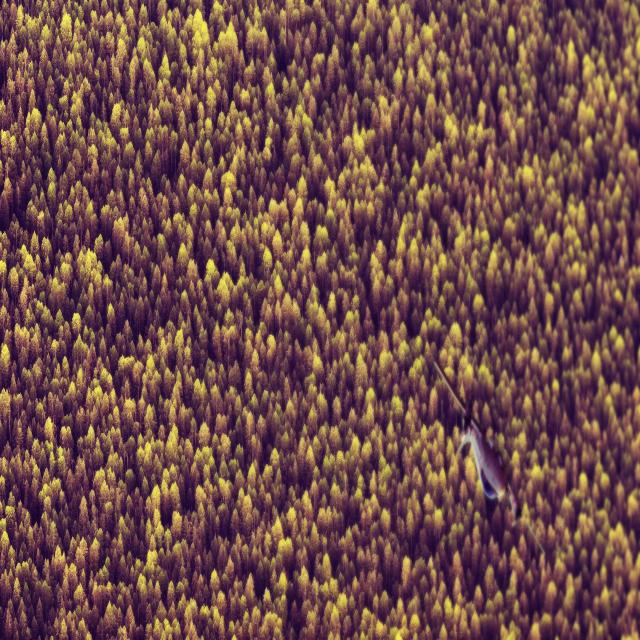airplane: (431, 357, 546, 557)
